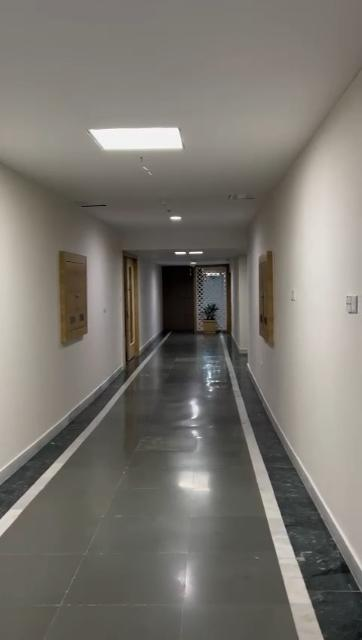door: (122, 250, 142, 364)
floor: (0, 335, 358, 640)
object: (200, 303, 222, 335)
wall: (244, 73, 362, 563)
